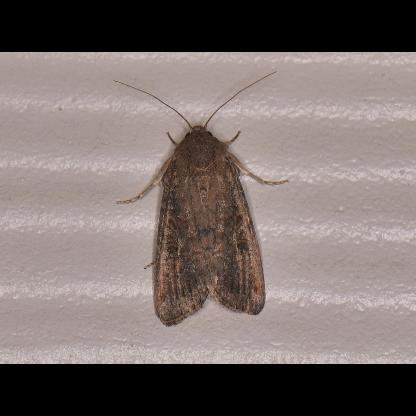Fall Armyworm Moth: (112, 69, 292, 331)
